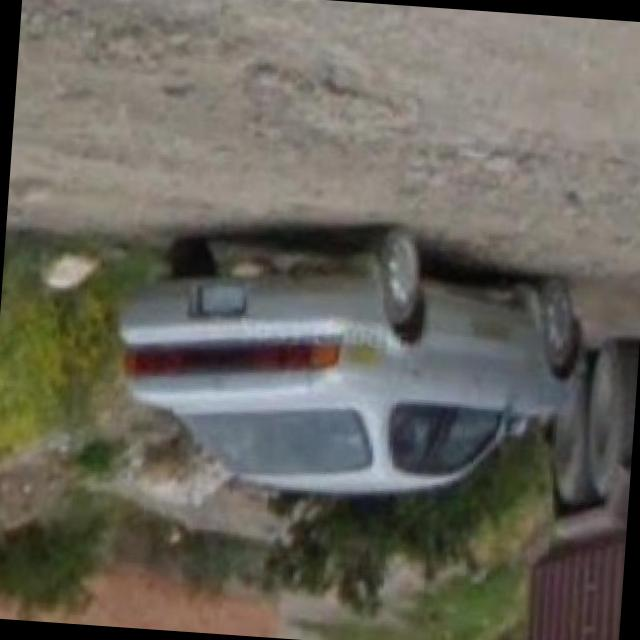car: (83, 187, 615, 538)
